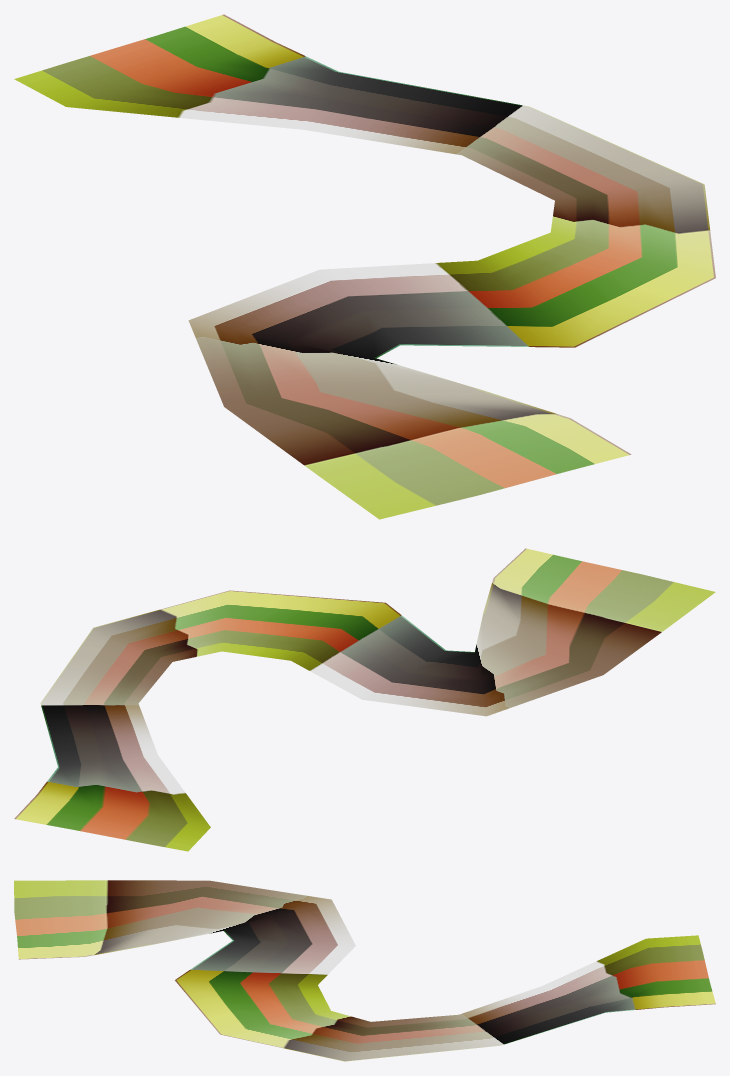
Rendered from SM_Onboarding_River_01.fbx.
3 renders of one model, top to bottom at view 1: azimuth 30°, elevation 25°; view 2: azimuth 150°, elevation 25°; view 3: azimuth 270°, elevation 25°, orthographic. The views are drawn at different scales.
Parts seen in each view (by area): view 1: SM_Onboarding_River_01; view 2: SM_Onboarding_River_01; view 3: SM_Onboarding_River_01.
Part boxes in pixels (box(x1,y1,x2,y2)): SM_Onboarding_River_01: box(14, 14, 715, 519); SM_Onboarding_River_01: box(14, 548, 715, 851); SM_Onboarding_River_01: box(14, 880, 715, 1061).
Size of the model in its own units: 1.73 by 0.000823 by 2.84.
